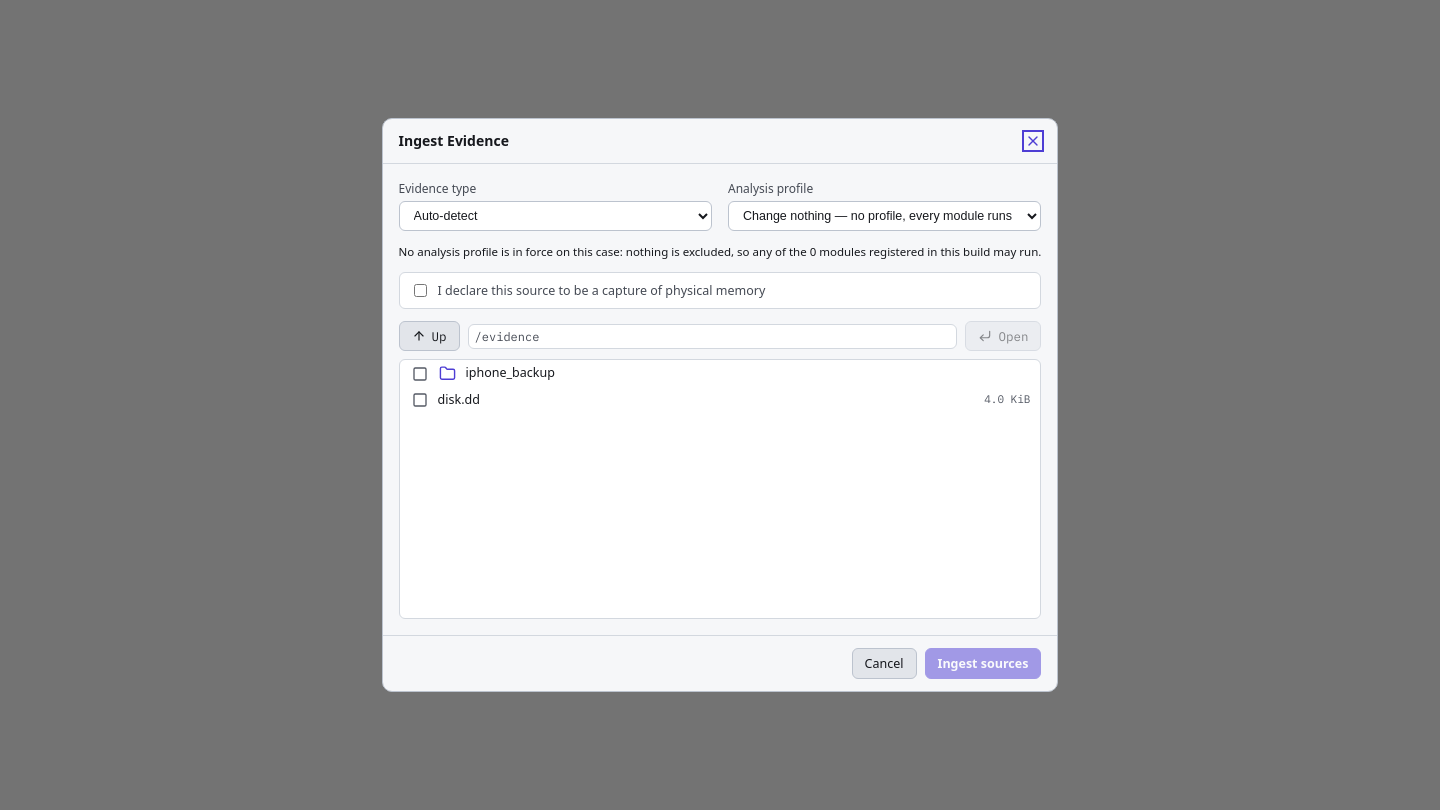
Test case: selecting a directory as a source (LIVE-013) › offers a select control on a directory row
Click the button named "Select iphone_backup" at (420, 374), box [410,366,430,382]
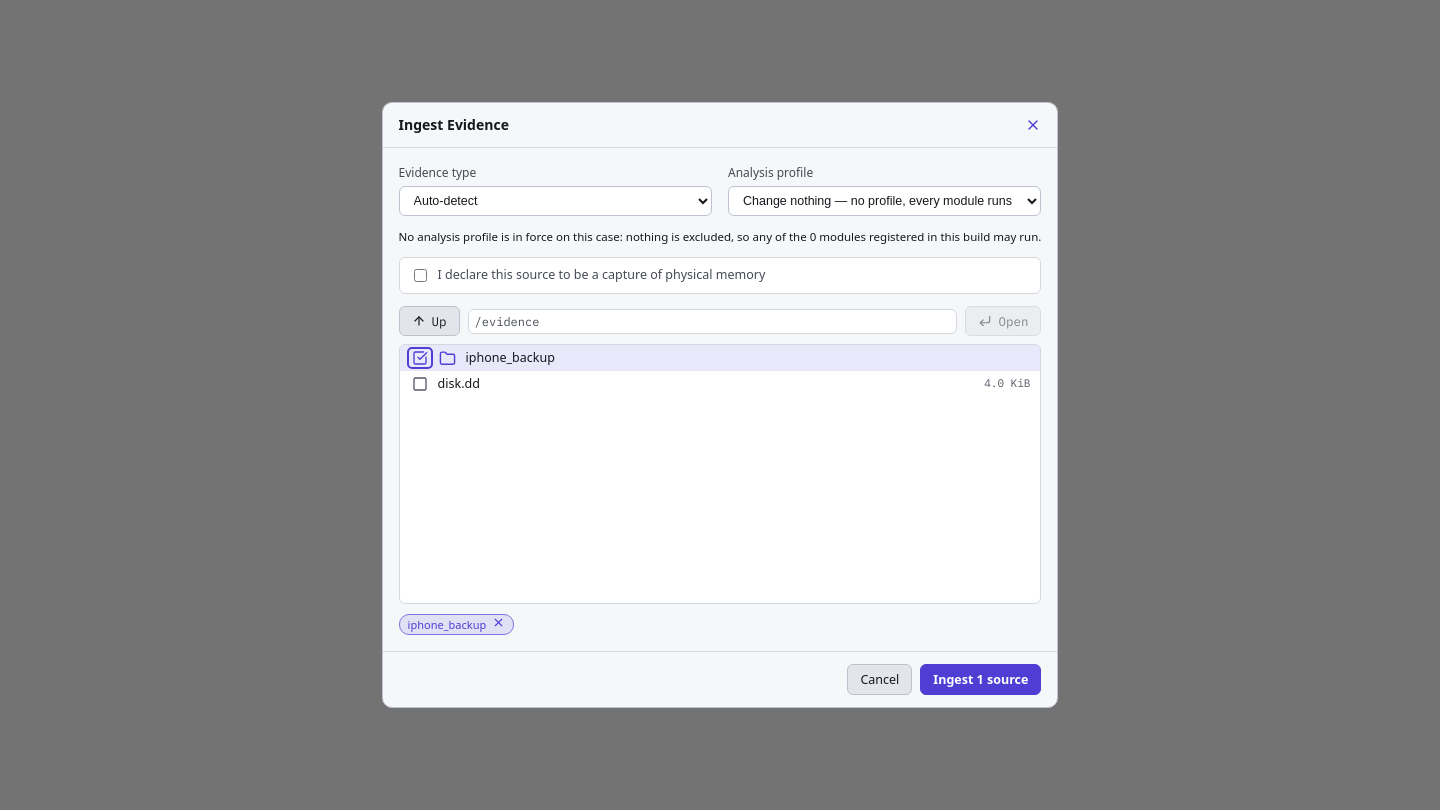
Check: the button "Ingest 1 source" is shown, box [920,664,1041,695]
